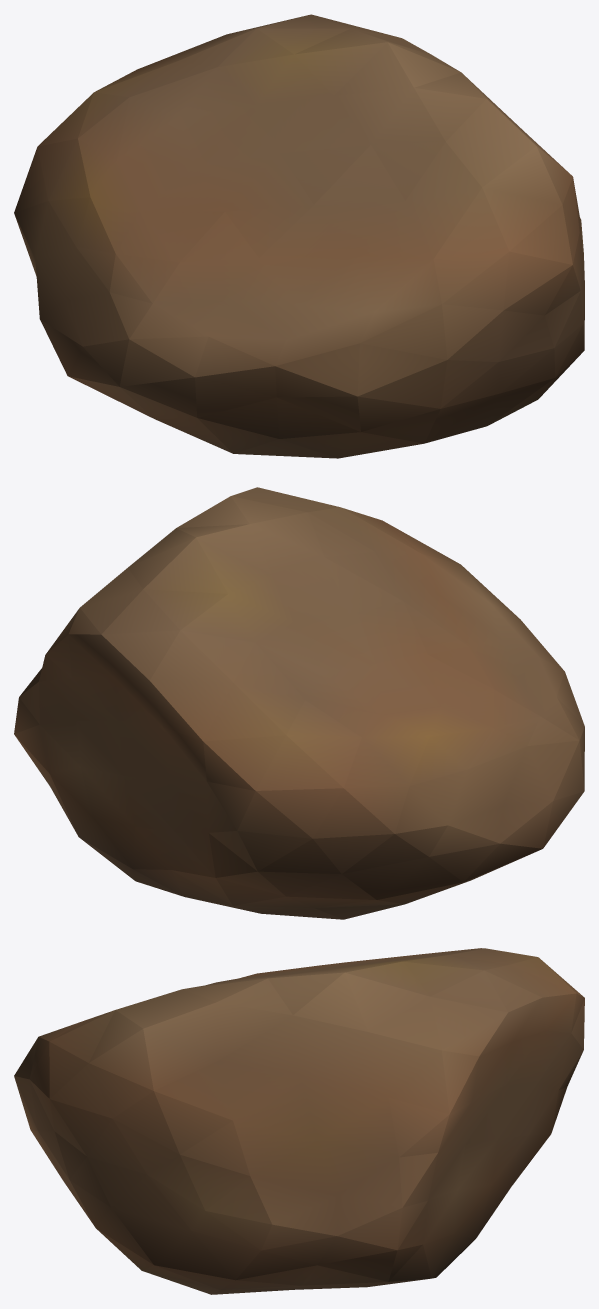
File: boulder-b.lod1.glb
3 views of the same model, one above another, from view 1: azimuth 30°, elevation 25°; view 2: azimuth 150°, elevation 25°; view 3: azimuth 270°, elevation 25° (orthographic). The views are drawn at different scales.
Bounding box in the file's own units: 2.39 × 1.52 × 2.49.
